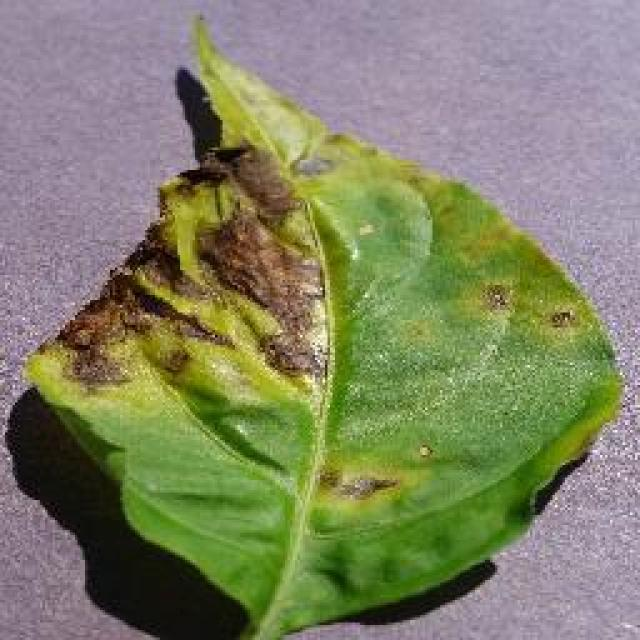Chilli_Bacterial_Spot: (18, 12, 628, 638), (198, 205, 330, 385), (150, 163, 240, 285), (312, 438, 440, 508), (472, 277, 582, 335), (328, 470, 400, 505), (285, 147, 335, 185), (477, 280, 515, 315), (542, 302, 580, 332), (313, 460, 345, 495), (348, 215, 380, 245), (410, 437, 438, 465)
